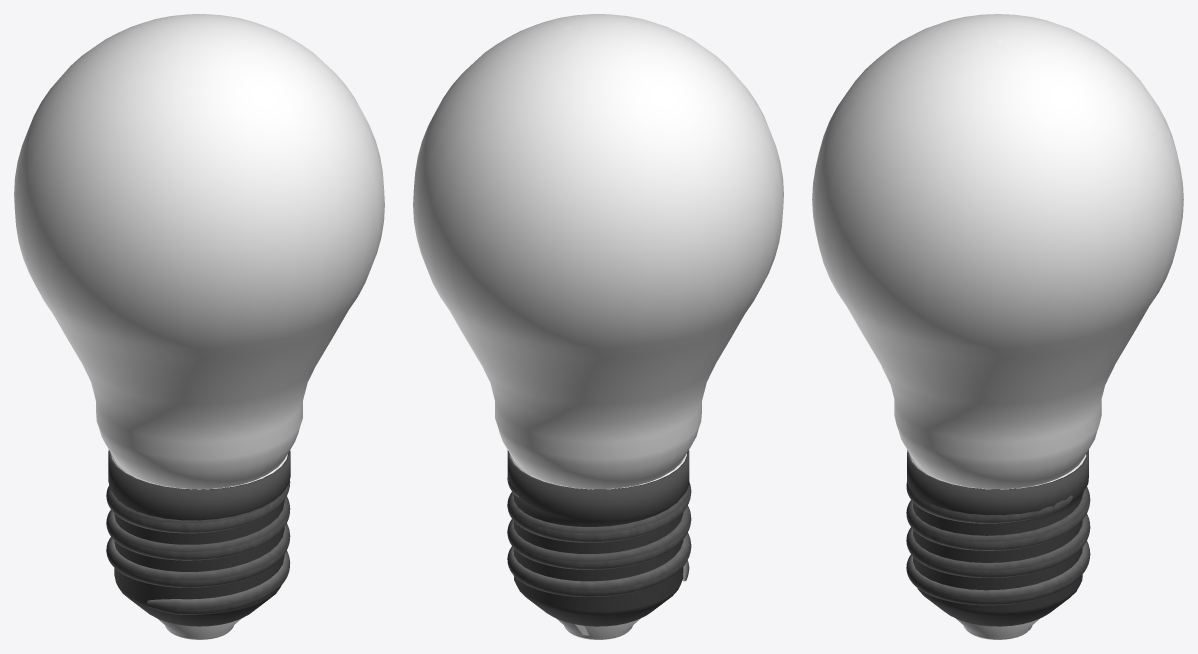
Rendered from model_light.fbx.
3 views of the same model, side by side, from view 1: azimuth 30°, elevation 25°; view 2: azimuth 150°, elevation 25°; view 3: azimuth 270°, elevation 25° (orthographic).
Visible parts, largest first — view 1: bulb:bulb_default8, bulb:screwcap_default9, bulb:bottomceramic_default4; view 2: bulb:bulb_default8, bulb:screwcap_default9, bulb:bottomceramic_default4; view 3: bulb:bulb_default8, bulb:screwcap_default9, bulb:bottomceramic_default4.
Part boxes in pixels (left/top/right/bottom): bulb:bulb_default8: left=14, top=14, right=384, bottom=489; bulb:screwcap_default9: left=106, top=450, right=290, bottom=626; bulb:bottomceramic_default4: left=158, top=619, right=240, bottom=639; bulb:bulb_default8: left=413, top=14, right=783, bottom=489; bulb:screwcap_default9: left=507, top=450, right=691, bottom=626; bulb:bottomceramic_default4: left=557, top=618, right=640, bottom=639; bulb:bulb_default8: left=812, top=14, right=1183, bottom=489; bulb:screwcap_default9: left=906, top=450, right=1090, bottom=626; bulb:bottomceramic_default4: left=956, top=618, right=1039, bottom=639.
Bounding box in the file's own units: 1.32 × 2.35 × 1.32.
Materials: 4 (1 with a texture image).
